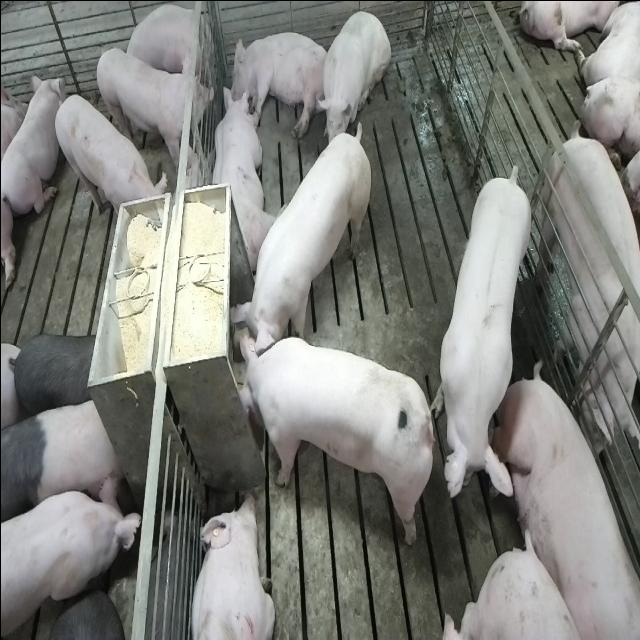Feeding: (233, 336, 436, 550), (232, 116, 376, 360)
Lateral_lying: (478, 361, 636, 636), (230, 29, 328, 138)
Sitting: (316, 5, 390, 154)
Standing: (534, 120, 640, 468), (431, 158, 532, 508), (2, 473, 142, 640), (2, 394, 128, 534), (52, 92, 166, 237), (94, 42, 215, 170), (6, 332, 106, 425), (32, 590, 122, 640)
Sternal_lying: (187, 490, 275, 640), (207, 84, 272, 272), (1, 72, 61, 222)
